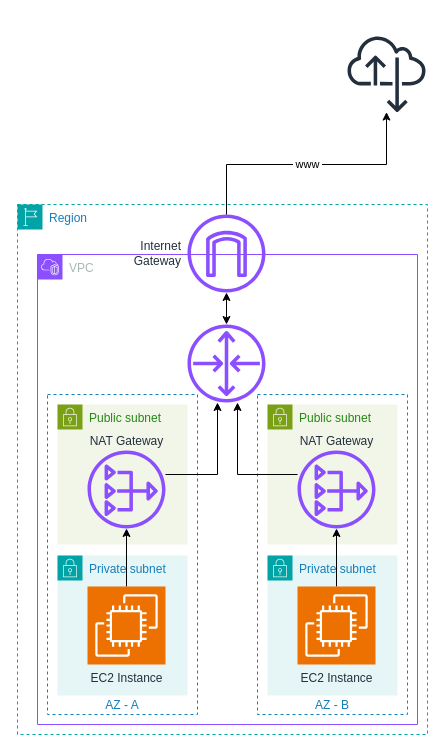
This 445x752 diagram has some shape labels left out. Each missing label, with the centre of its shape:
"Internet" belongs at (386,73).
"Router" belongs at (226,363).
